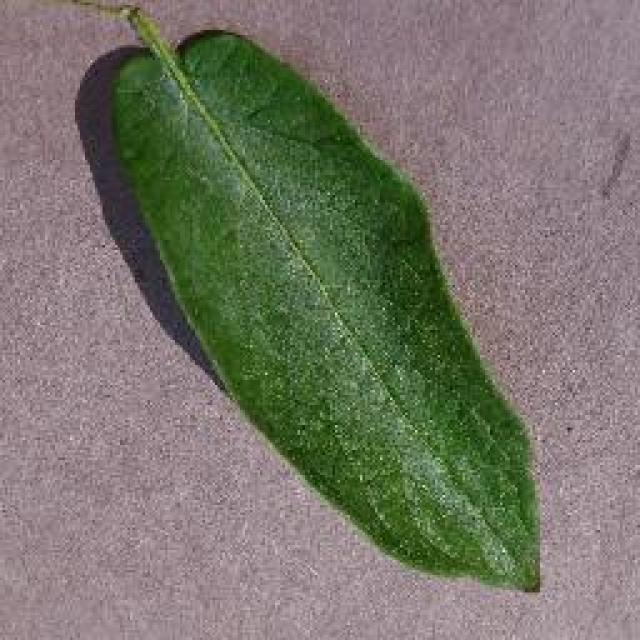Potato___healthy: (73, 0, 542, 596)
